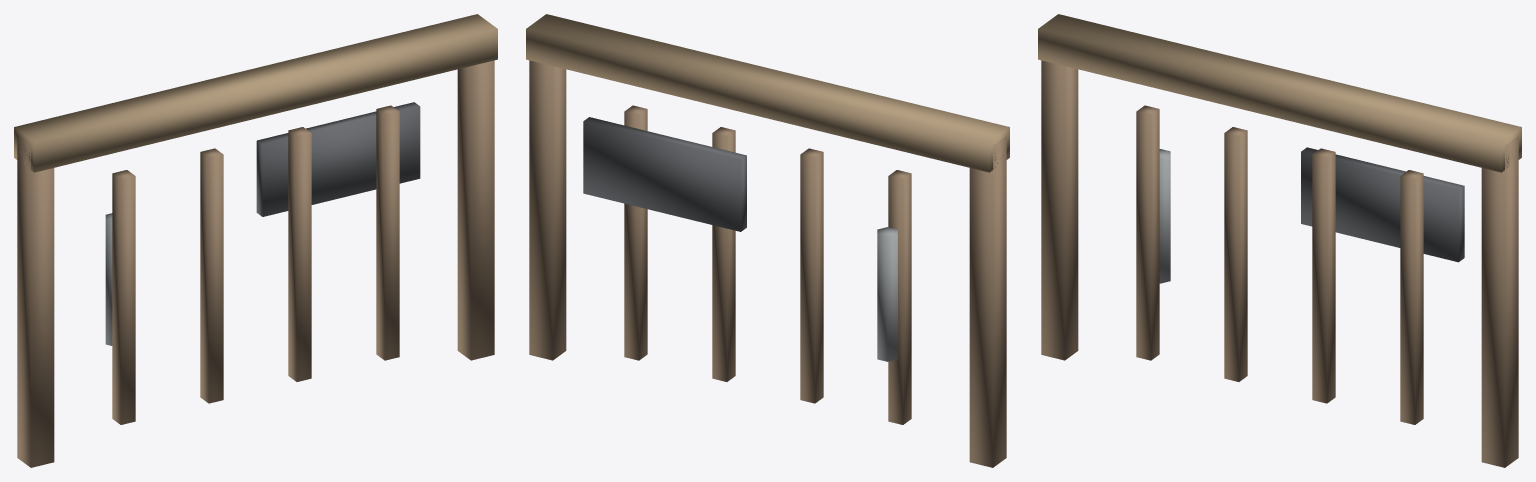
The model's file is court_rail__service.glb.
3 views of the same model, side by side, from view 1: azimuth 30°, elevation 25°; view 2: azimuth 150°, elevation 25°; view 3: azimuth 330°, elevation 25° (orthographic).
Visible parts, largest first — view 1: world; view 2: world; view 3: world.
Part boxes in pixels (x1,y1,x2,y2): world: (14, 14, 497, 467); world: (526, 14, 1009, 467); world: (1038, 14, 1521, 467).
Size of the model in its own units: 1.58 by 1.07 by 0.1503.
